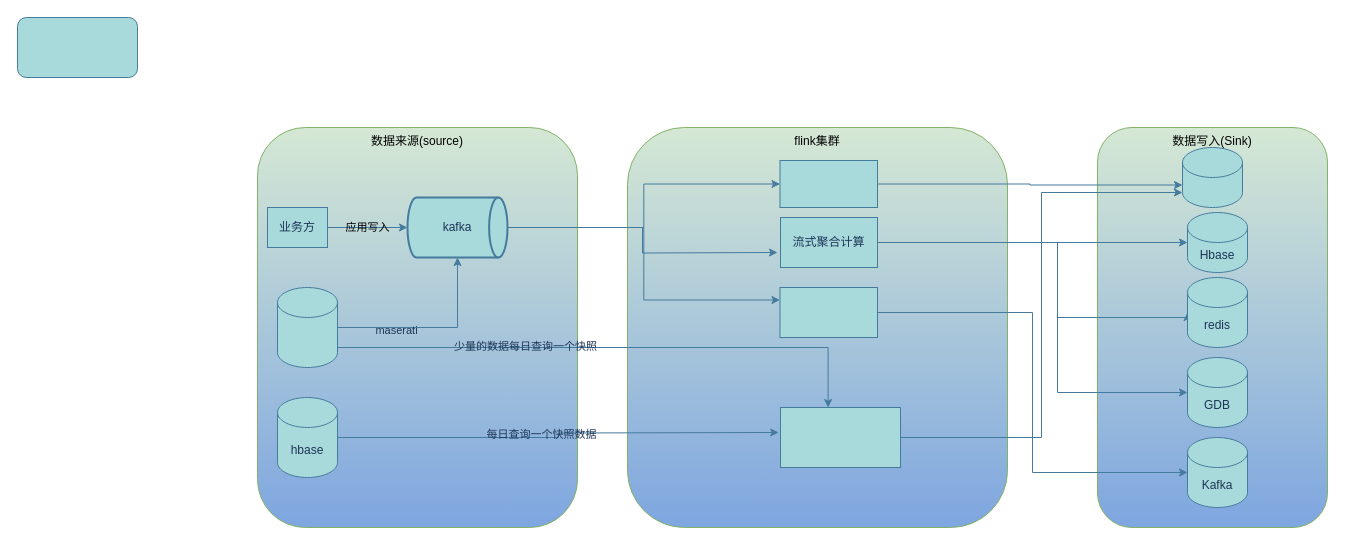
The diagram is 1345 pixels wide and 545 high, and some of its shapes have lost their labels. The shapes that lost their labels are listed below. From the top down, each one's box as (x1, y1, x2, y2) in pixels, then its label:
(779, 160, 878, 208): 实时数仓
(1182, 146, 1242, 208): Clickhouse
(276, 286, 338, 368): mysql
(779, 286, 878, 338): 复杂事件处理(CEP)
(780, 406, 900, 468): 全量同步快照数据或聚合计算
